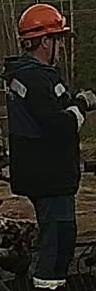gloves: (75, 87, 96, 114)
helmet: (16, 3, 71, 41)
vest: (1, 56, 81, 198)
